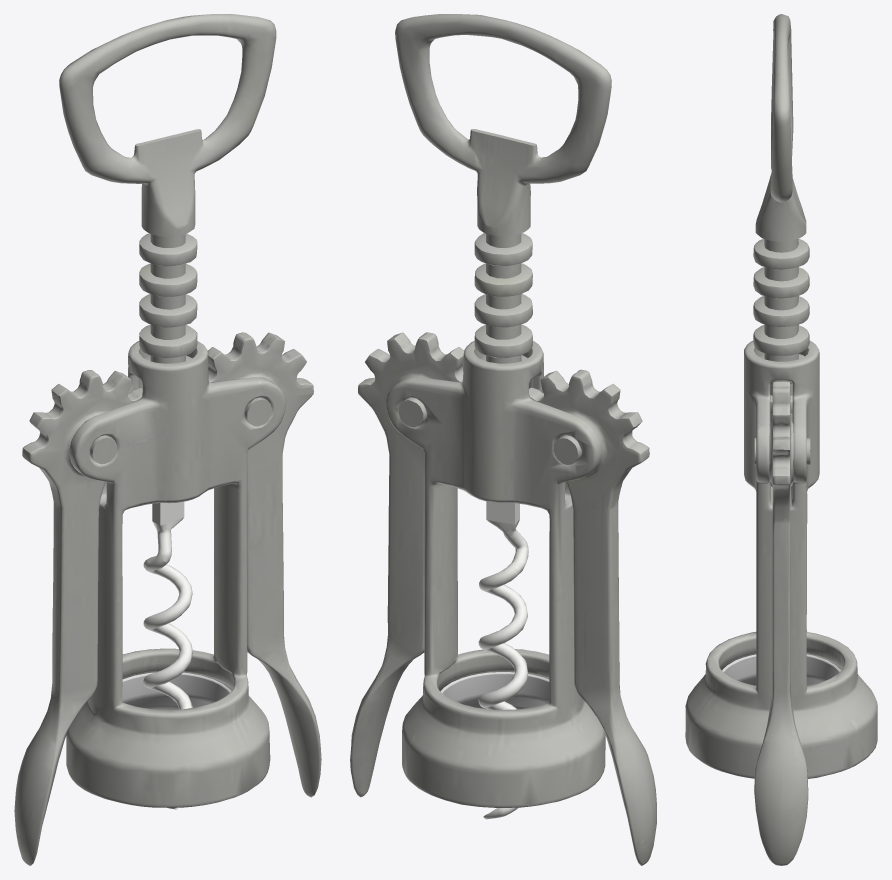
File: IDEALISK Tire-bouchon, couleur argent-mat.glb
3 renders of one model, left to right at view 1: azimuth 30°, elevation 25°; view 2: azimuth 150°, elevation 25°; view 3: azimuth 270°, elevation 25°, orthographic. The views are drawn at different scales.
Visible parts, largest first — view 1: model; view 2: model; view 3: model.
Part boxes in pixels (left/top/right/bottom): model: left=14, top=14, right=321, bottom=865; model: left=350, top=14, right=656, bottom=865; model: left=685, top=14, right=877, bottom=865.
Bounding box in the file's own units: 0.0637 × 0.1667 × 0.038.
1 material, 1 textured.
